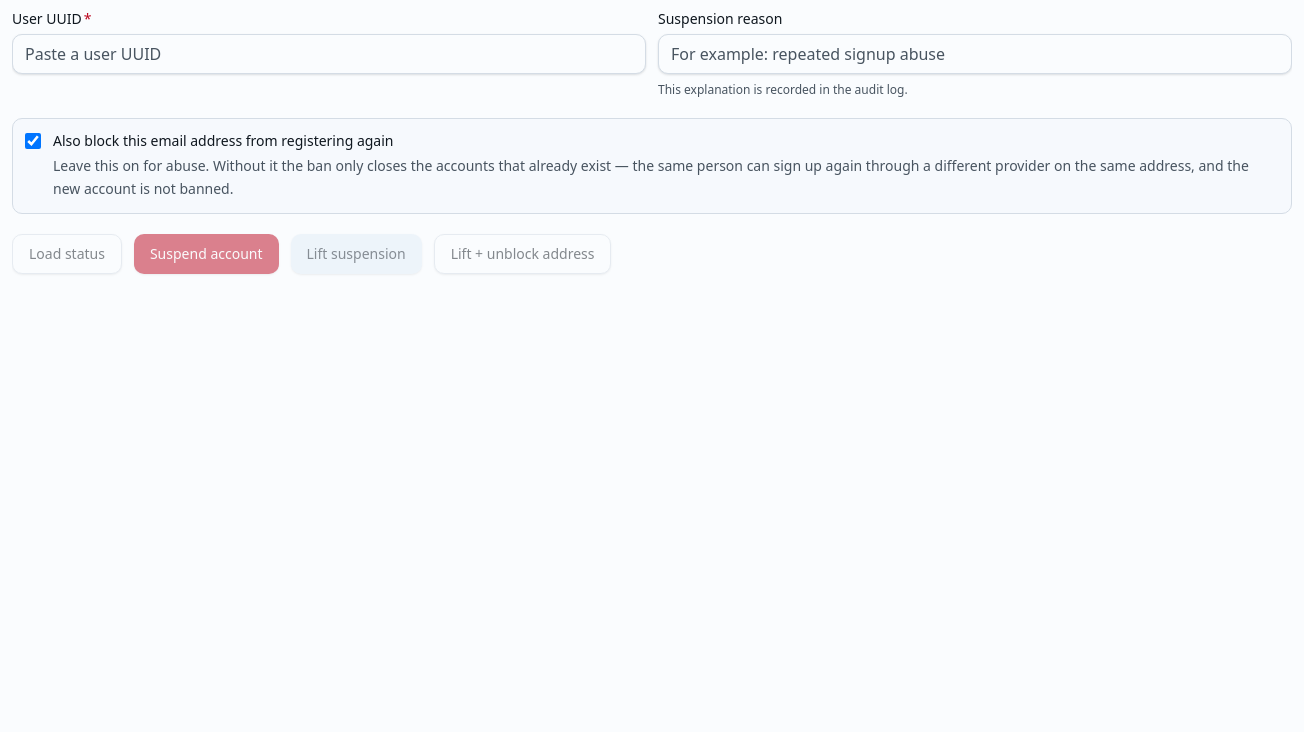
Test: BanUserPanel › reports the sessions it killed
Type "u-1" into the field labelled "User UUID". click: (329, 54)
box: [12,34,646,74]
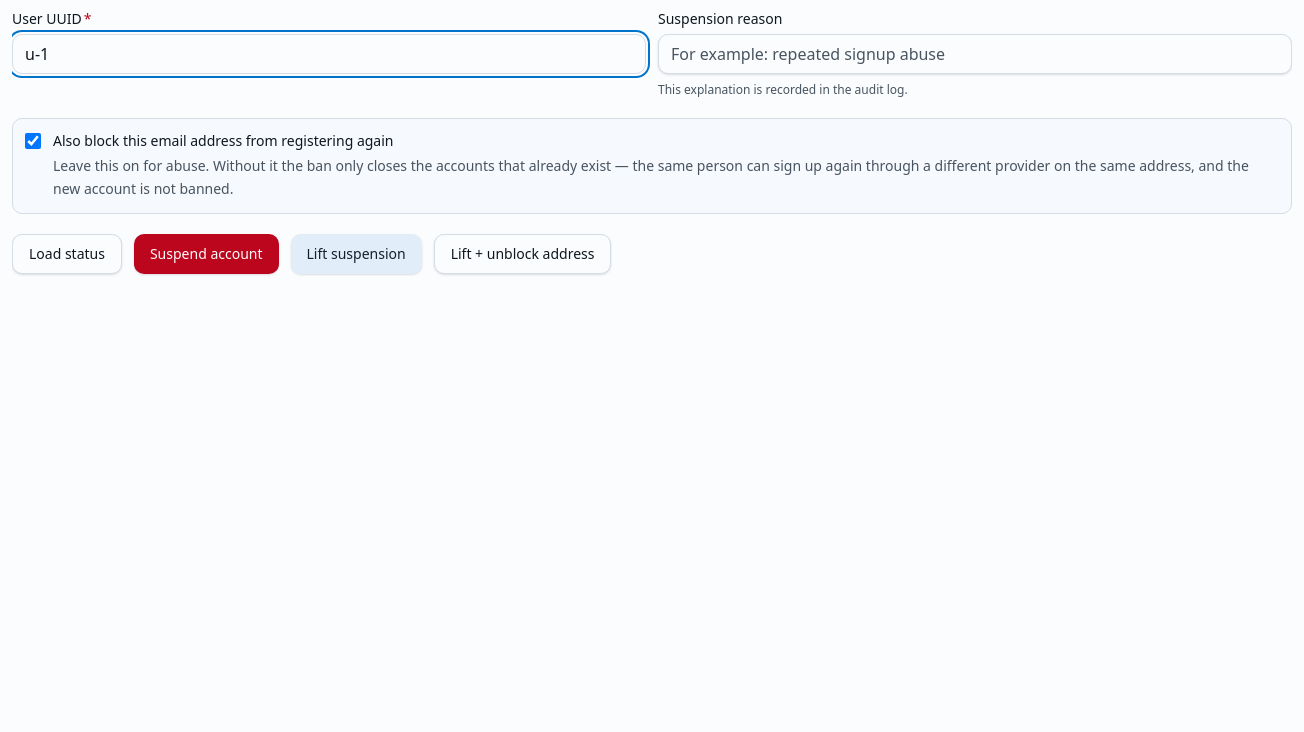
Click the button "Suspend account". click: (206, 254)
box: [134,234,278,274]
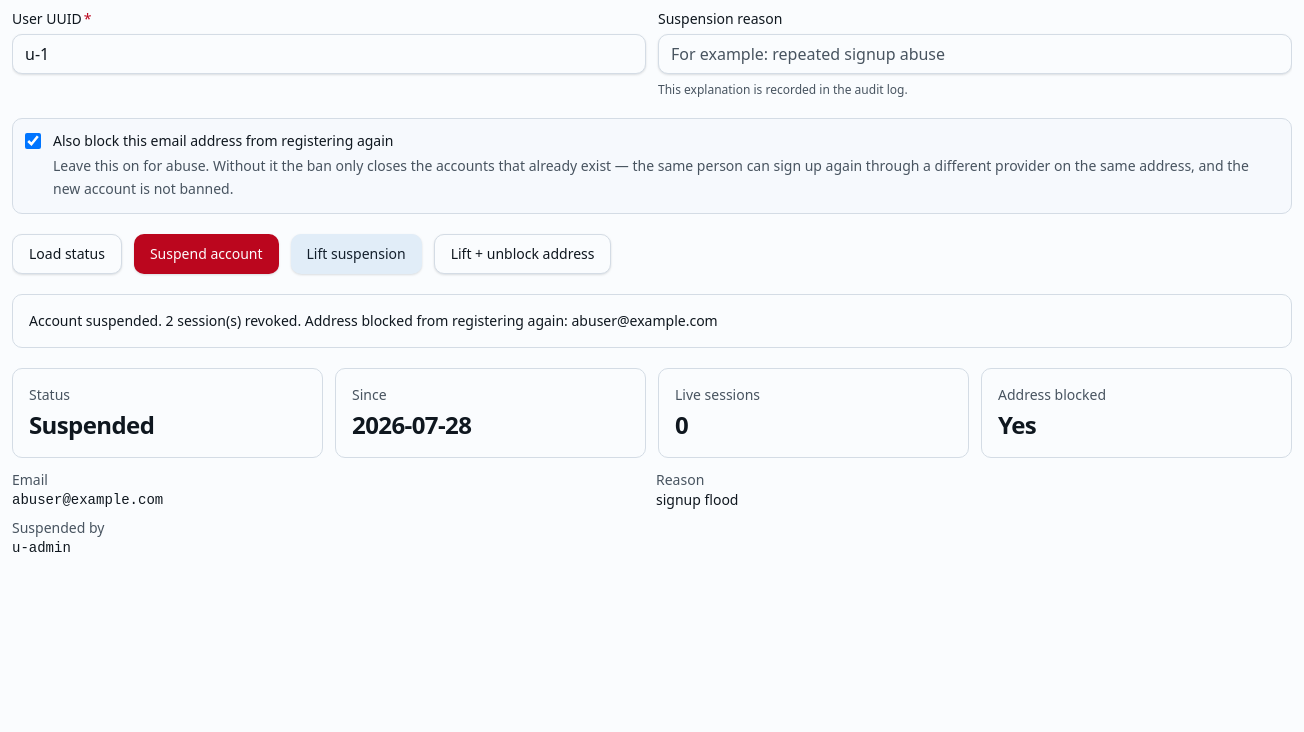
Result: the message shows "2 session(s) revoked" at [29,310,718,330]
